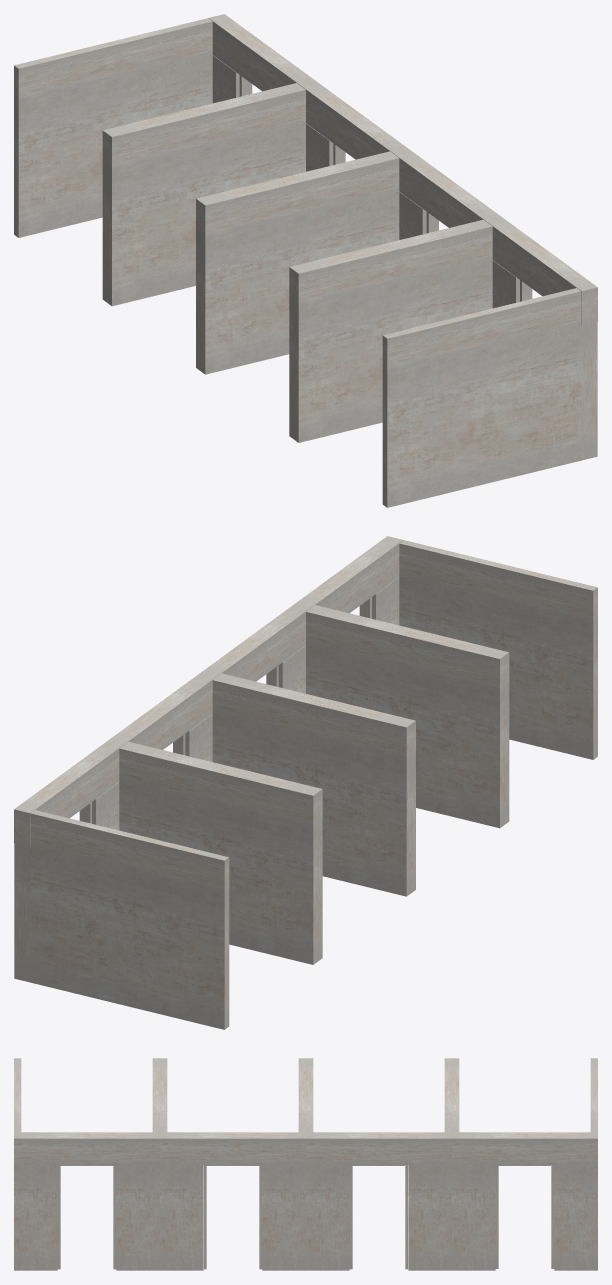
Rendered from InnerWalls5.fbx.
The picture shows the model from 3 angles, top to bottom: view 1: azimuth 30°, elevation 25°; view 2: azimuth 150°, elevation 25°; view 3: azimuth 270°, elevation 25°; orthographic projection. The views are drawn at different scales.
Visible parts, largest first — view 1: walls, top; view 2: walls, top; view 3: walls, top.
Boxes of the visible parts, x1,y1,x2,y2 form: walls: [14, 55, 597, 507]; top: [14, 14, 597, 372]; walls: [14, 577, 597, 1029]; top: [14, 536, 597, 894]; walls: [14, 1165, 597, 1270]; top: [14, 1058, 597, 1164].
Bounding box in the file's own units: 13.02 × 10 × 40.
